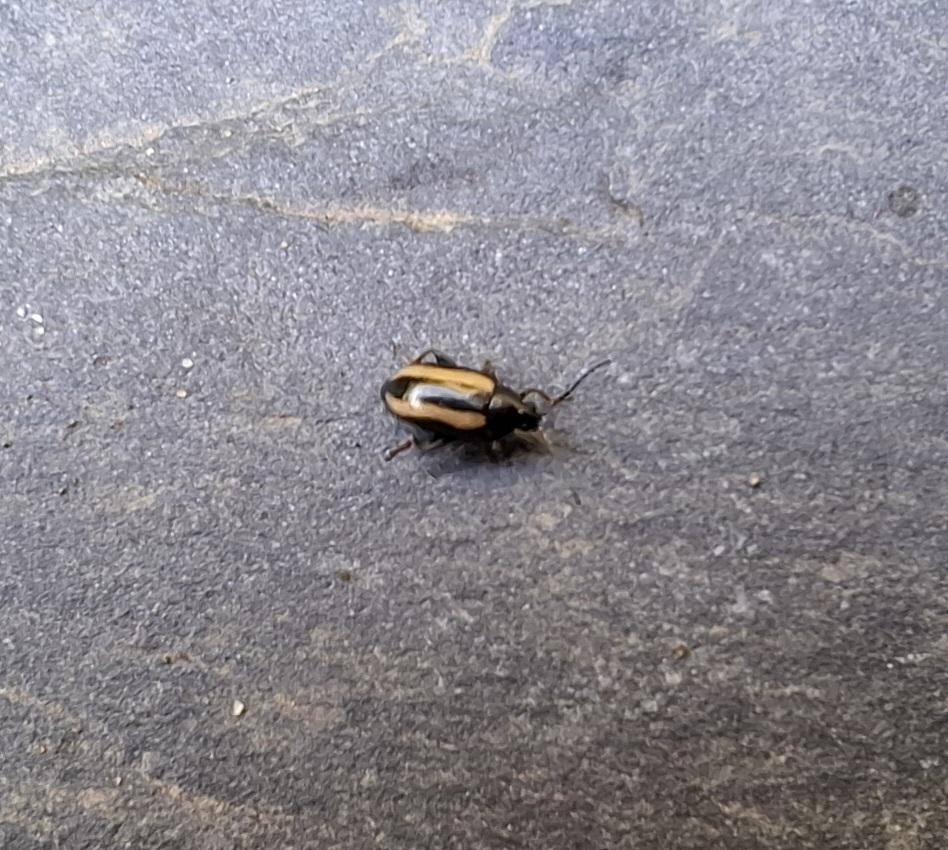flea_beetle: (320, 301, 638, 516)
